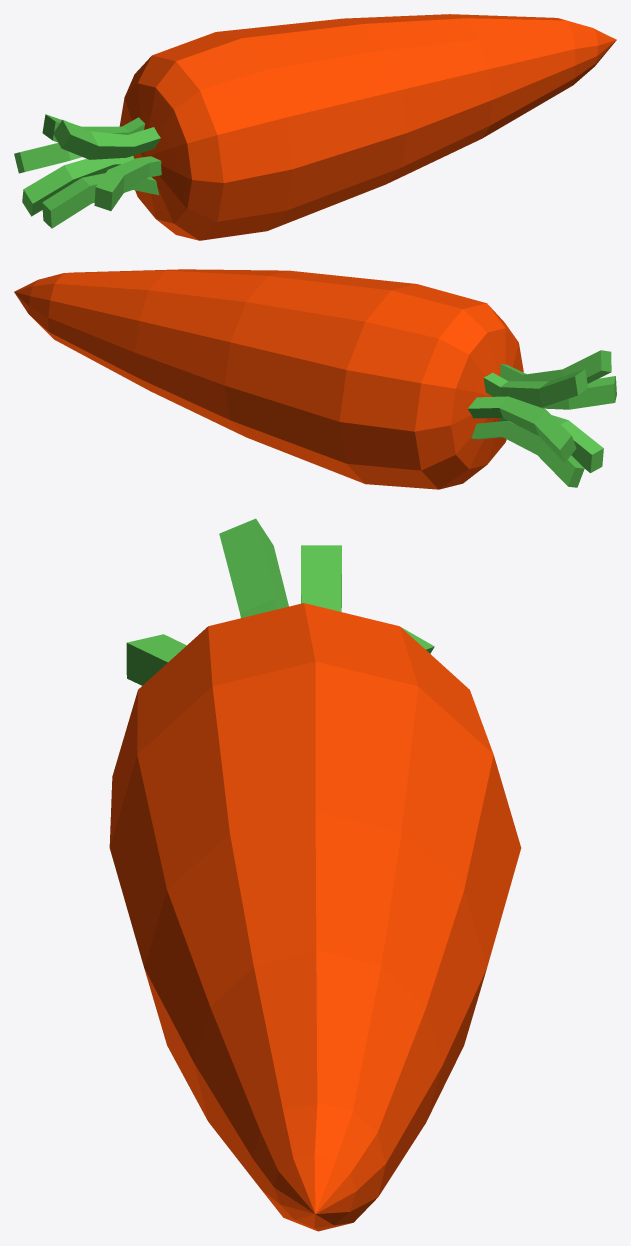
File: carrot.fbx
3 views of the same model, one above another, from view 1: azimuth 30°, elevation 25°; view 2: azimuth 150°, elevation 25°; view 3: azimuth 270°, elevation 25° (orthographic). The views are drawn at different scales.
Parts seen in each view (by area): view 1: Sphere.015; view 2: Sphere.015; view 3: Sphere.015.
Boxes of the visible parts, x1,y1,x2,y2 form: Sphere.015: [14, 14, 616, 240]; Sphere.015: [14, 269, 616, 489]; Sphere.015: [109, 518, 521, 1231].
Size of the model in its own units: 175 by 54.1 by 54.1.
